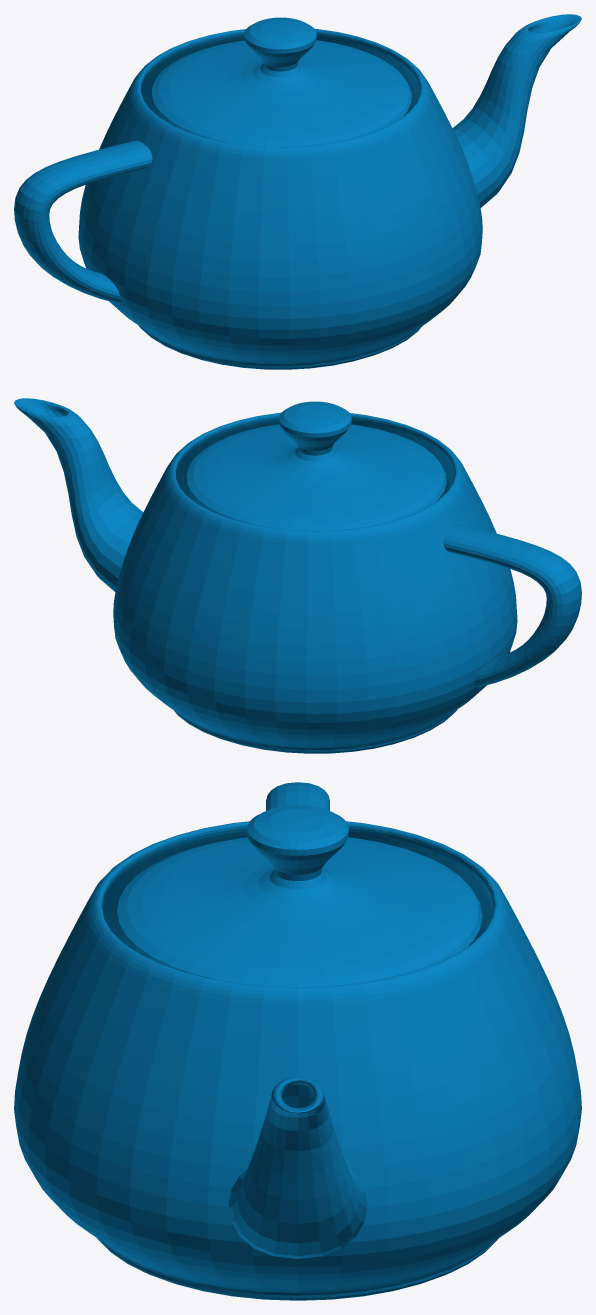
File: teapot.obj
The picture shows the model from 3 angles, top to bottom: view 1: azimuth 30°, elevation 25°; view 2: azimuth 150°, elevation 25°; view 3: azimuth 270°, elevation 25°; orthographic projection. The views are drawn at different scales.
Bounding box in the file's own units: 6.43 × 3.15 × 4.
